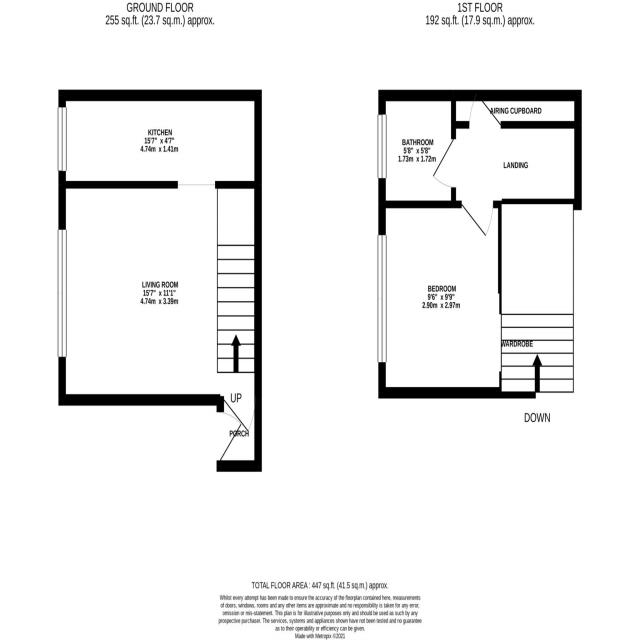DOOR: (215, 409, 243, 468), (468, 89, 502, 130), (460, 200, 494, 239), (432, 138, 457, 189)
ROOM: (56, 89, 262, 472), (377, 200, 502, 399)
WINDOW: (377, 234, 388, 365), (57, 227, 67, 359), (57, 106, 68, 173), (377, 114, 387, 180)
